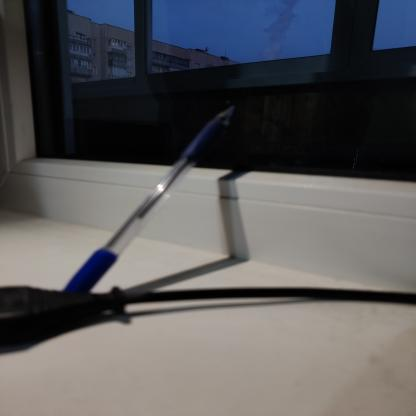pen: (46, 100, 241, 296)
